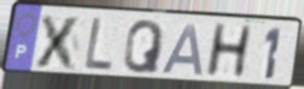1: (263, 26, 282, 82)
A: (159, 22, 206, 77)
H: (202, 21, 256, 80)
L: (82, 16, 115, 74)
Q: (121, 19, 167, 76)
X: (32, 13, 86, 73)
